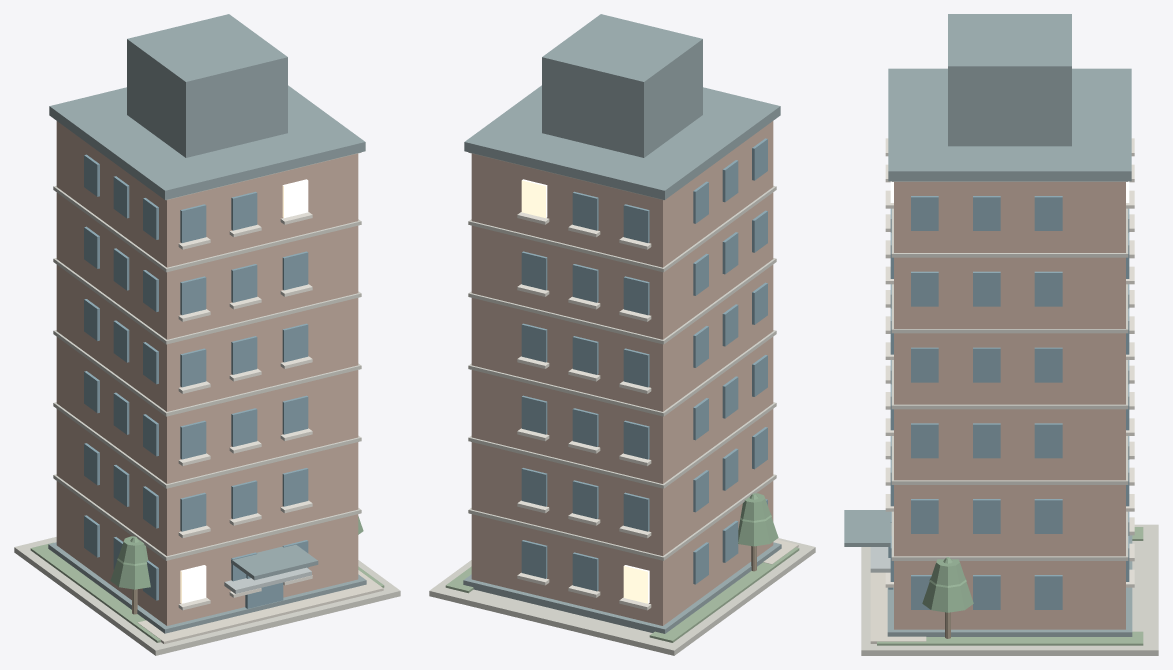
The model's file is remaster_office_1.glb.
The picture shows the model from 3 angles, left to right: view 1: azimuth 30°, elevation 25°; view 2: azimuth 150°, elevation 25°; view 3: azimuth 270°, elevation 25°; orthographic projection. The views are drawn at different scales.
Visible parts, largest first — view 1: remaster_office_1 brick, remaster_office_1 roof, remaster_office_1 glass, remaster_office_1 stone, remaster_office_1 white, remaster_office_1 cream, remaster_office_1 green, remaster_office_1 warm, remaster_office_1 leaf, remaster_office_1 metal; view 2: remaster_office_1 brick, remaster_office_1 roof, remaster_office_1 glass, remaster_office_1 stone, remaster_office_1 white, remaster_office_1 green, remaster_office_1 warm, remaster_office_1 leaf; view 3: remaster_office_1 brick, remaster_office_1 roof, remaster_office_1 glass, remaster_office_1 stone, remaster_office_1 white, remaster_office_1 green, remaster_office_1 leaf, remaster_office_1 cream, remaster_office_1 metal.
Part boxes in pixels (left/top/right/bottom): remaster_office_1 brick: left=56, top=121, right=358, bottom=625; remaster_office_1 roof: left=48, top=14, right=366, bottom=633; remaster_office_1 glass: left=84, top=154, right=308, bottom=608; remaster_office_1 stone: left=14, top=152, right=400, bottom=655; remaster_office_1 white: left=178, top=212, right=312, bottom=610; remaster_office_1 cream: left=137, top=570, right=383, bottom=644; remaster_office_1 green: left=30, top=542, right=384, bottom=642; remaster_office_1 warm: left=180, top=179, right=308, bottom=603; remaster_office_1 leaf: left=110, top=516, right=363, bottom=589; remaster_office_1 metal: left=224, top=567, right=311, bottom=593; remaster_office_1 brick: left=471, top=121, right=773, bottom=625; remaster_office_1 roof: left=463, top=14, right=781, bottom=633; remaster_office_1 glass: left=521, top=138, right=767, bottom=591; remaster_office_1 stone: left=429, top=152, right=815, bottom=655; remaster_office_1 white: left=517, top=212, right=651, bottom=610; remaster_office_1 green: left=445, top=547, right=799, bottom=642; remaster_office_1 warm: left=521, top=179, right=649, bottom=603; remaster_office_1 leaf: left=738, top=493, right=778, bottom=546; remaster_office_1 brick: left=894, top=182, right=1125, bottom=629; remaster_office_1 roof: left=844, top=14, right=1132, bottom=636; remaster_office_1 glass: left=888, top=196, right=1129, bottom=609; remaster_office_1 stone: left=861, top=181, right=1158, bottom=655; remaster_office_1 white: left=885, top=138, right=1134, bottom=587; remaster_office_1 green: left=877, top=527, right=1143, bottom=645; remaster_office_1 leaf: left=922, top=557, right=973, bottom=612; remaster_office_1 cream: left=870, top=572, right=926, bottom=643; remaster_office_1 metal: left=870, top=547, right=890, bottom=572.
Bounding box in the file's own units: 9.64 × 19.7 × 10.15.
